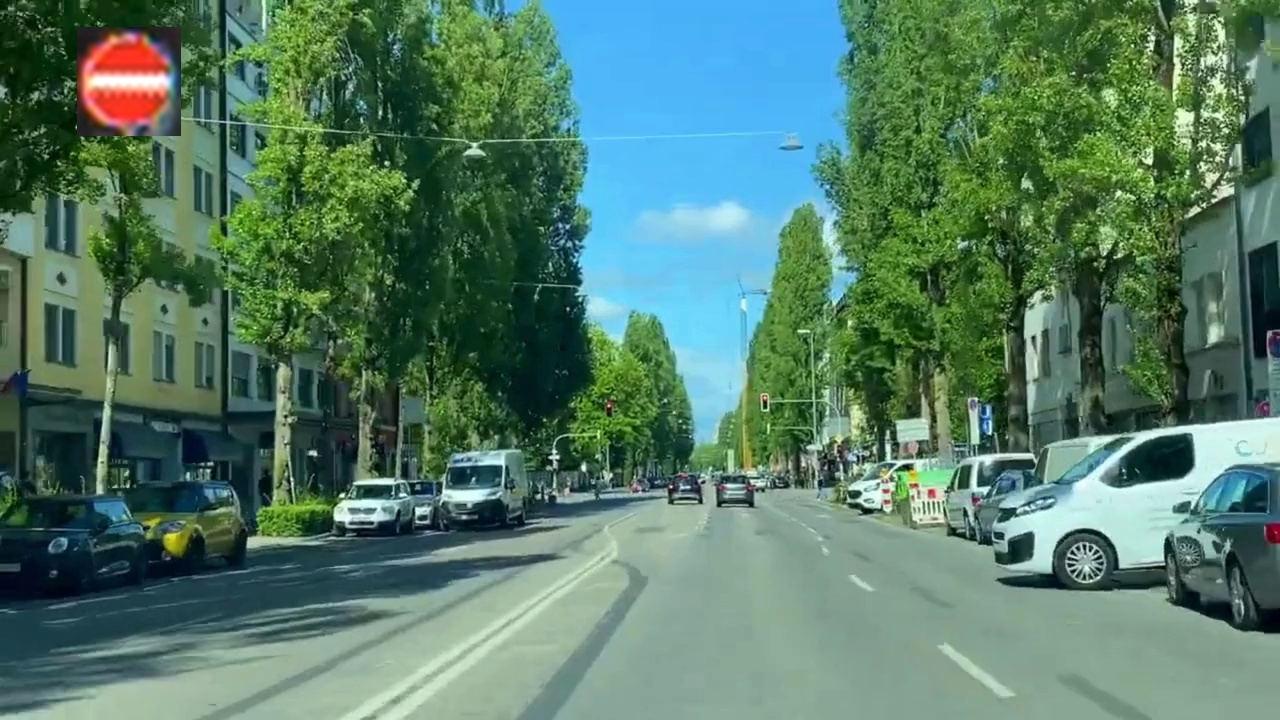No entry: (77, 27, 181, 136)
